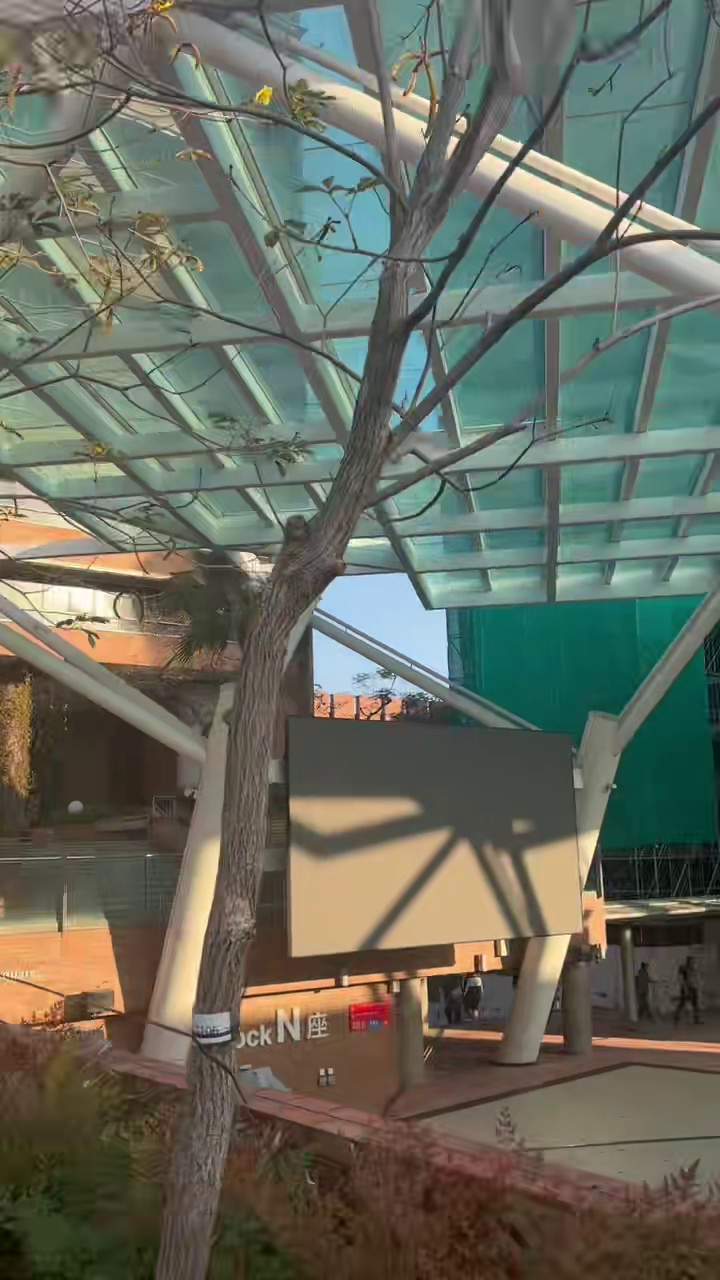Tabebuia chrysantha: (155, 18, 625, 1279)
